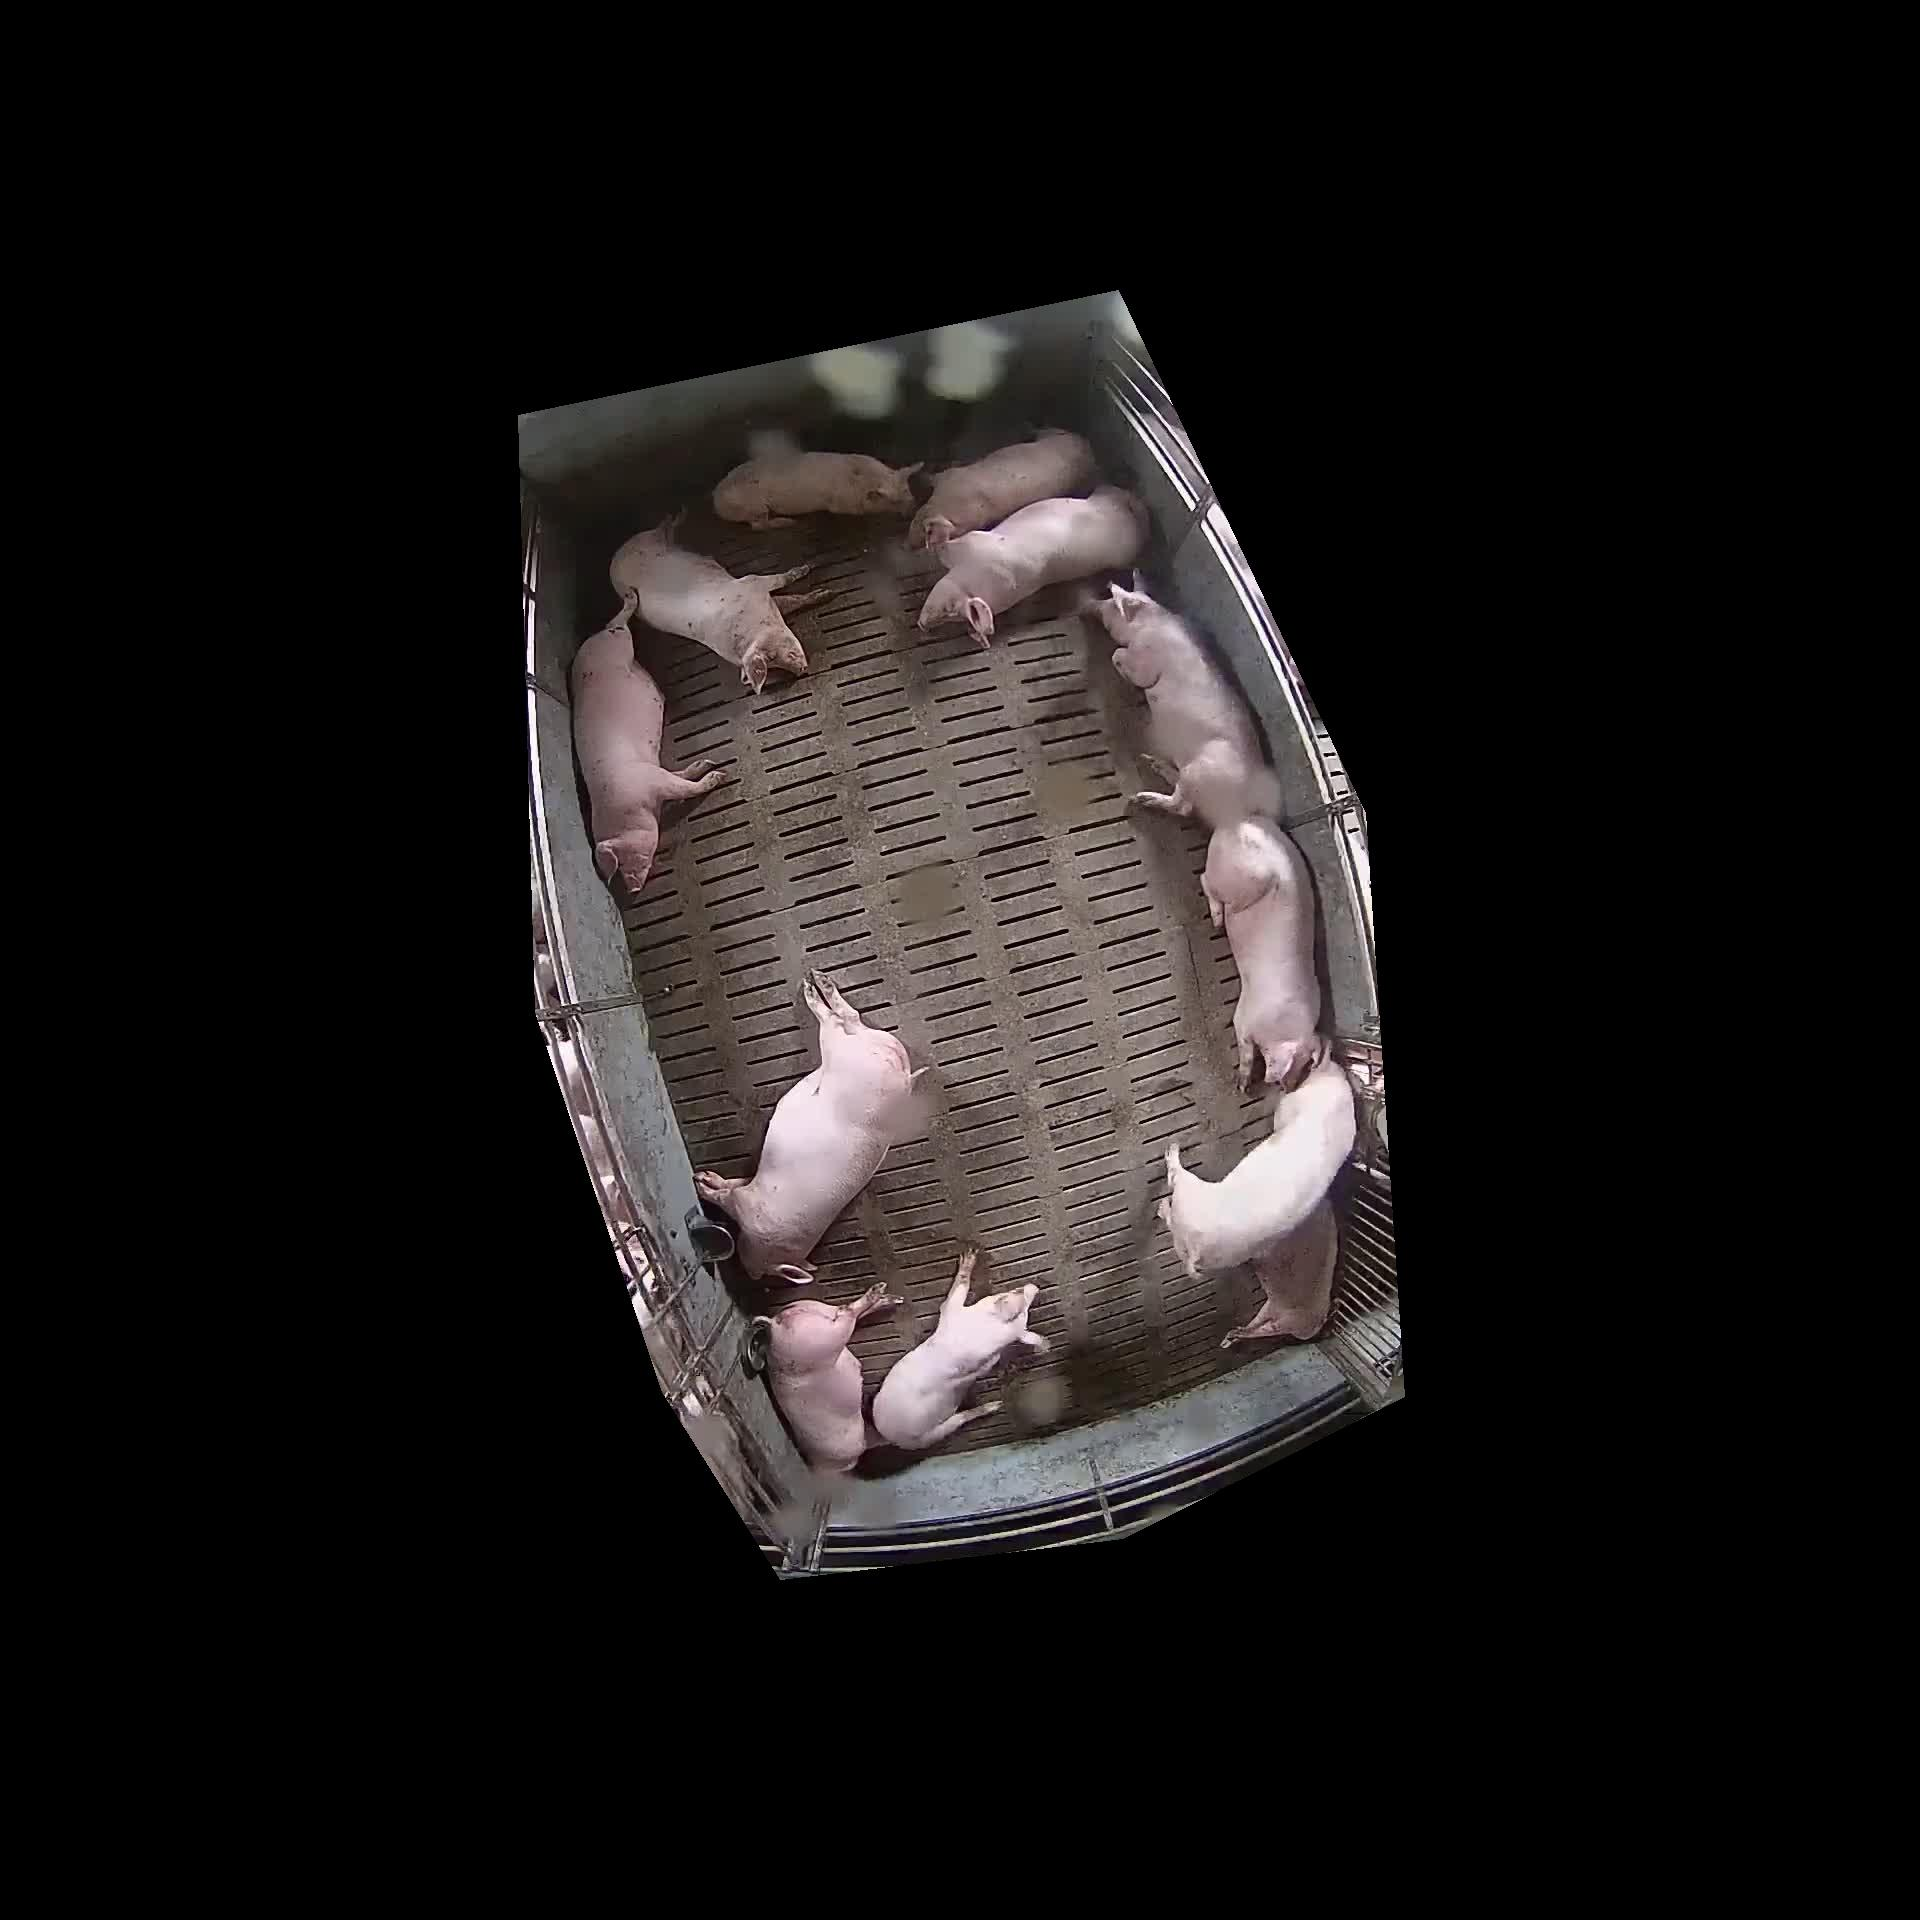pig: (695, 971, 927, 1282), (1092, 566, 1280, 825), (571, 593, 723, 891), (1159, 1060, 1354, 1271), (920, 487, 1148, 647), (872, 1252, 1044, 1447), (610, 520, 809, 689), (1203, 818, 1320, 1085), (913, 425, 1094, 547), (767, 1284, 884, 1470), (712, 429, 918, 527), (1224, 1199, 1335, 1342)
